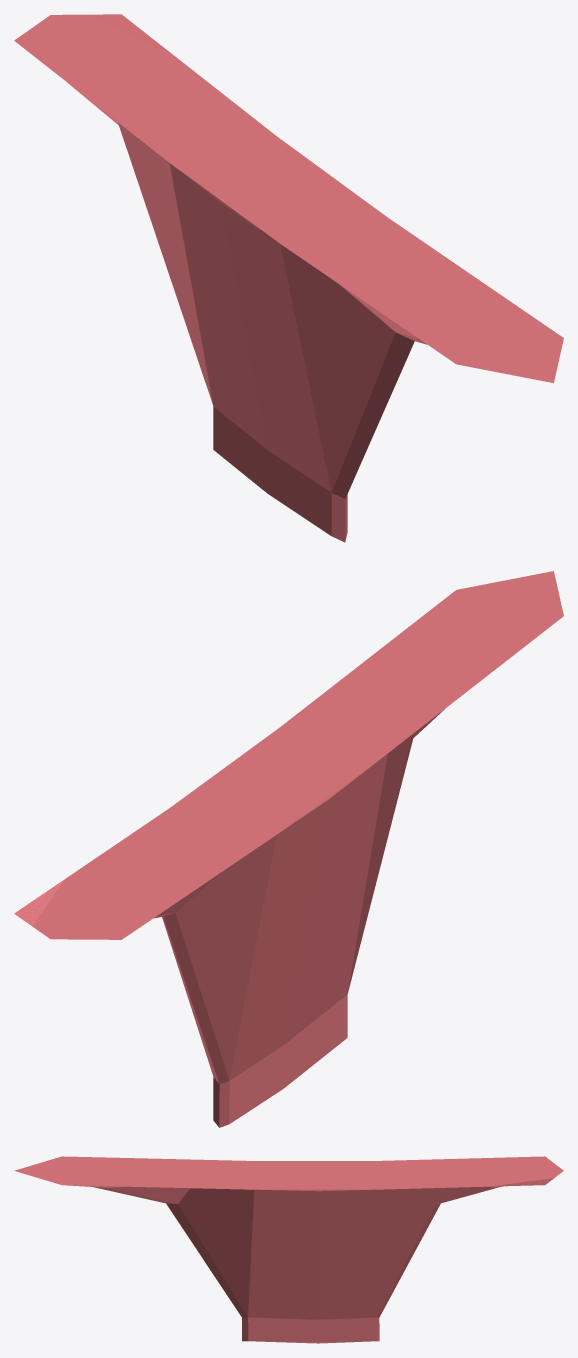
File: barchetta_fractioned_deriva.fbx
3 views of the same model, one above another, from view 1: azimuth 30°, elevation 25°; view 2: azimuth 150°, elevation 25°; view 3: azimuth 270°, elevation 25° (orthographic). The views are drawn at different scales.
Visible parts, largest first — view 1: deriva; view 2: deriva; view 3: deriva.
Boxes of the visible parts, left/top/right/bottom form: deriva: left=14, top=14, right=563, bottom=542; deriva: left=14, top=571, right=563, bottom=1127; deriva: left=14, top=1156, right=563, bottom=1343.
Size of the model in its own units: 169 by 467 by 1365.
